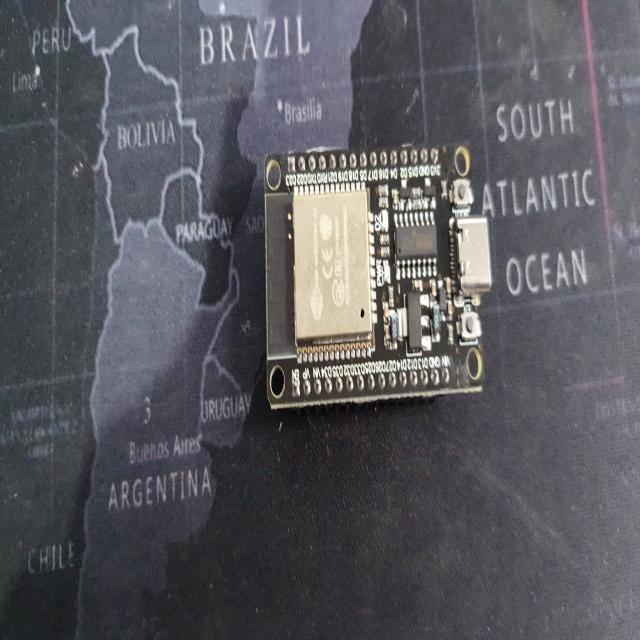ESP32: (267, 145, 493, 409)
